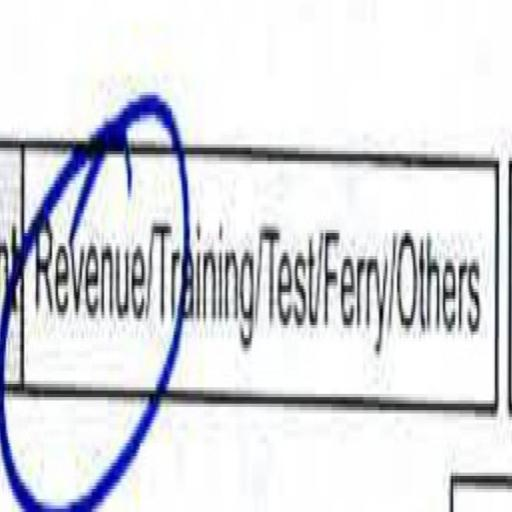check: (18, 49, 154, 512)
